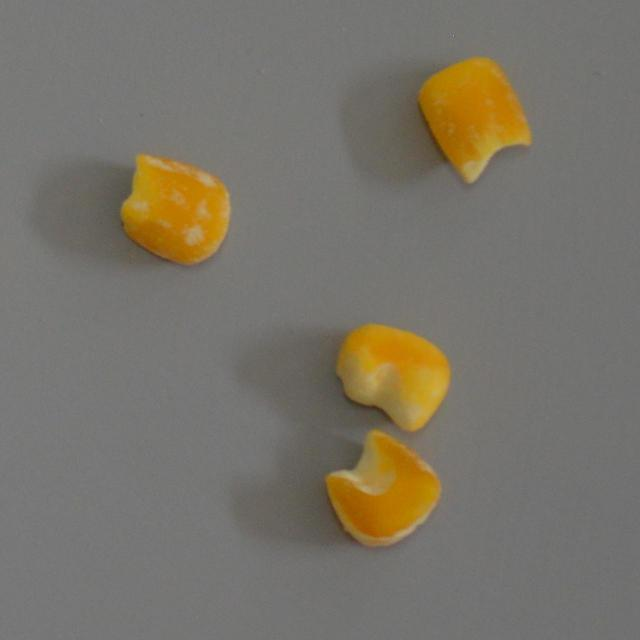no_canjicado: (333, 324, 450, 430)
pelicula: (323, 429, 444, 546), (118, 151, 230, 268), (430, 58, 520, 172)
